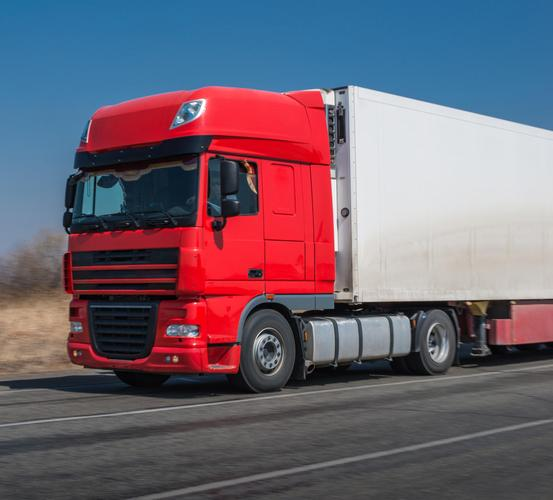卡车: (52, 77, 553, 395)
